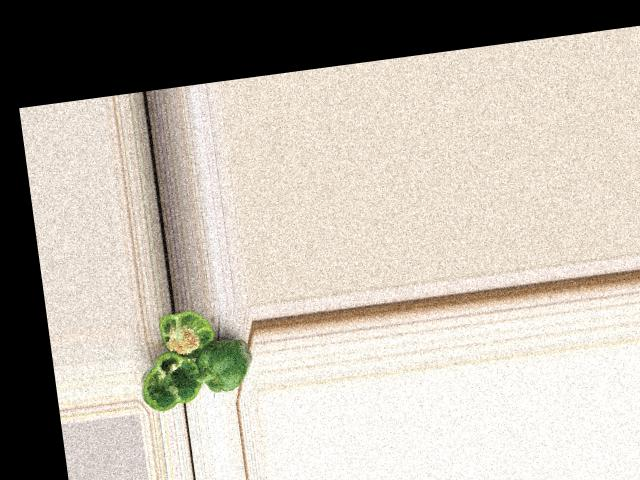bell_pepper: (146, 307, 220, 362)
